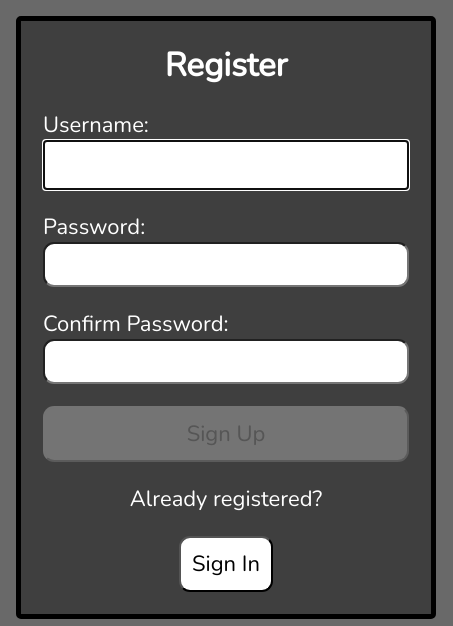
Test: Register Component › submits the form successfully
In the field labelled "Username:": (226, 165) x1=43 y1=140 x2=409 y2=190, type "ValidUser123"
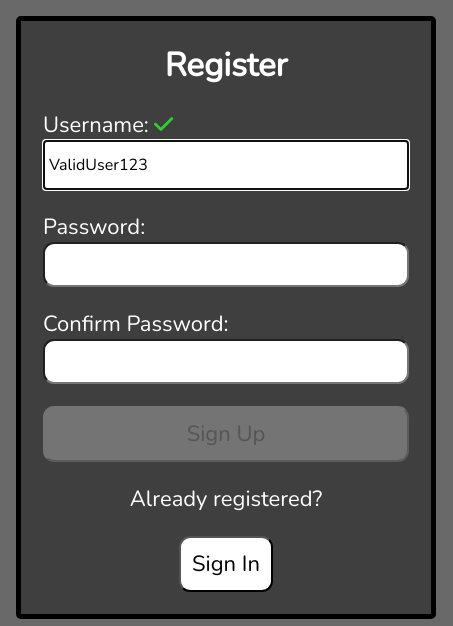
In the password field with test id "password-input": (226, 264) x1=43 y1=242 x2=409 y2=287, type "ValidPassword123!"
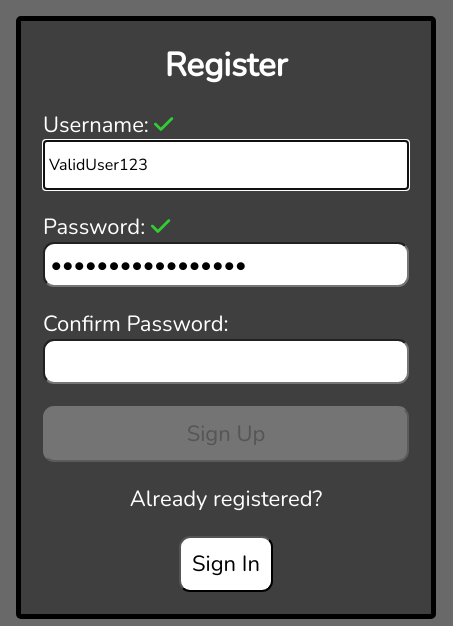
In the password field with test id "confirm-password-input": (226, 362) x1=43 y1=339 x2=409 y2=384, type "ValidPassword123!"
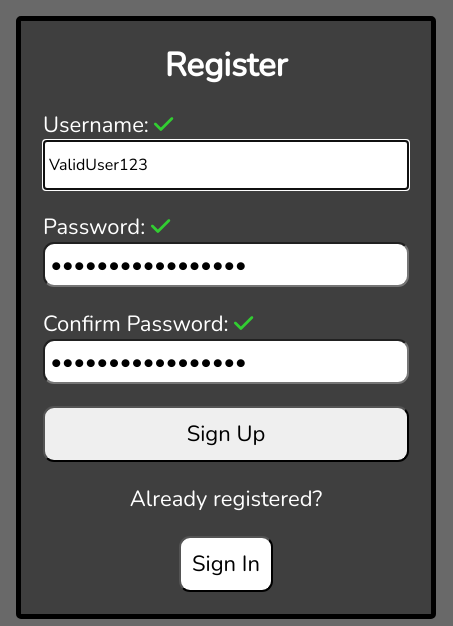
Click the button "Sign Up": (226, 434) x1=43 y1=406 x2=409 y2=462
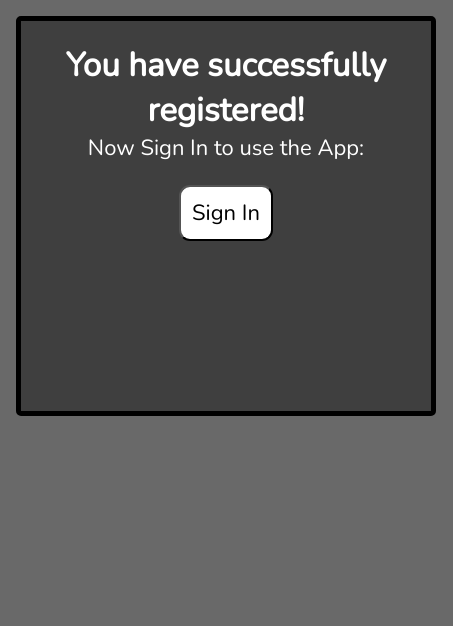
Check: the heading "You have successfully registered!" is shown, box x1=43 y1=43 x2=409 y2=133
